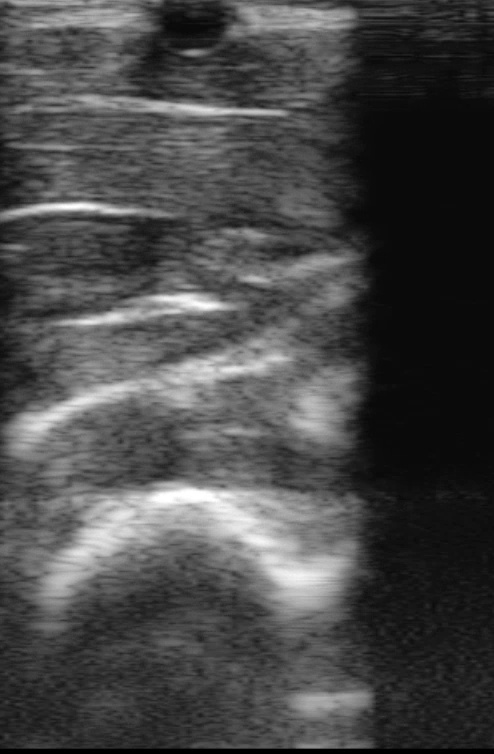veins_detect: (147, 1, 238, 59)
veins_seg: (143, 1, 236, 56)
